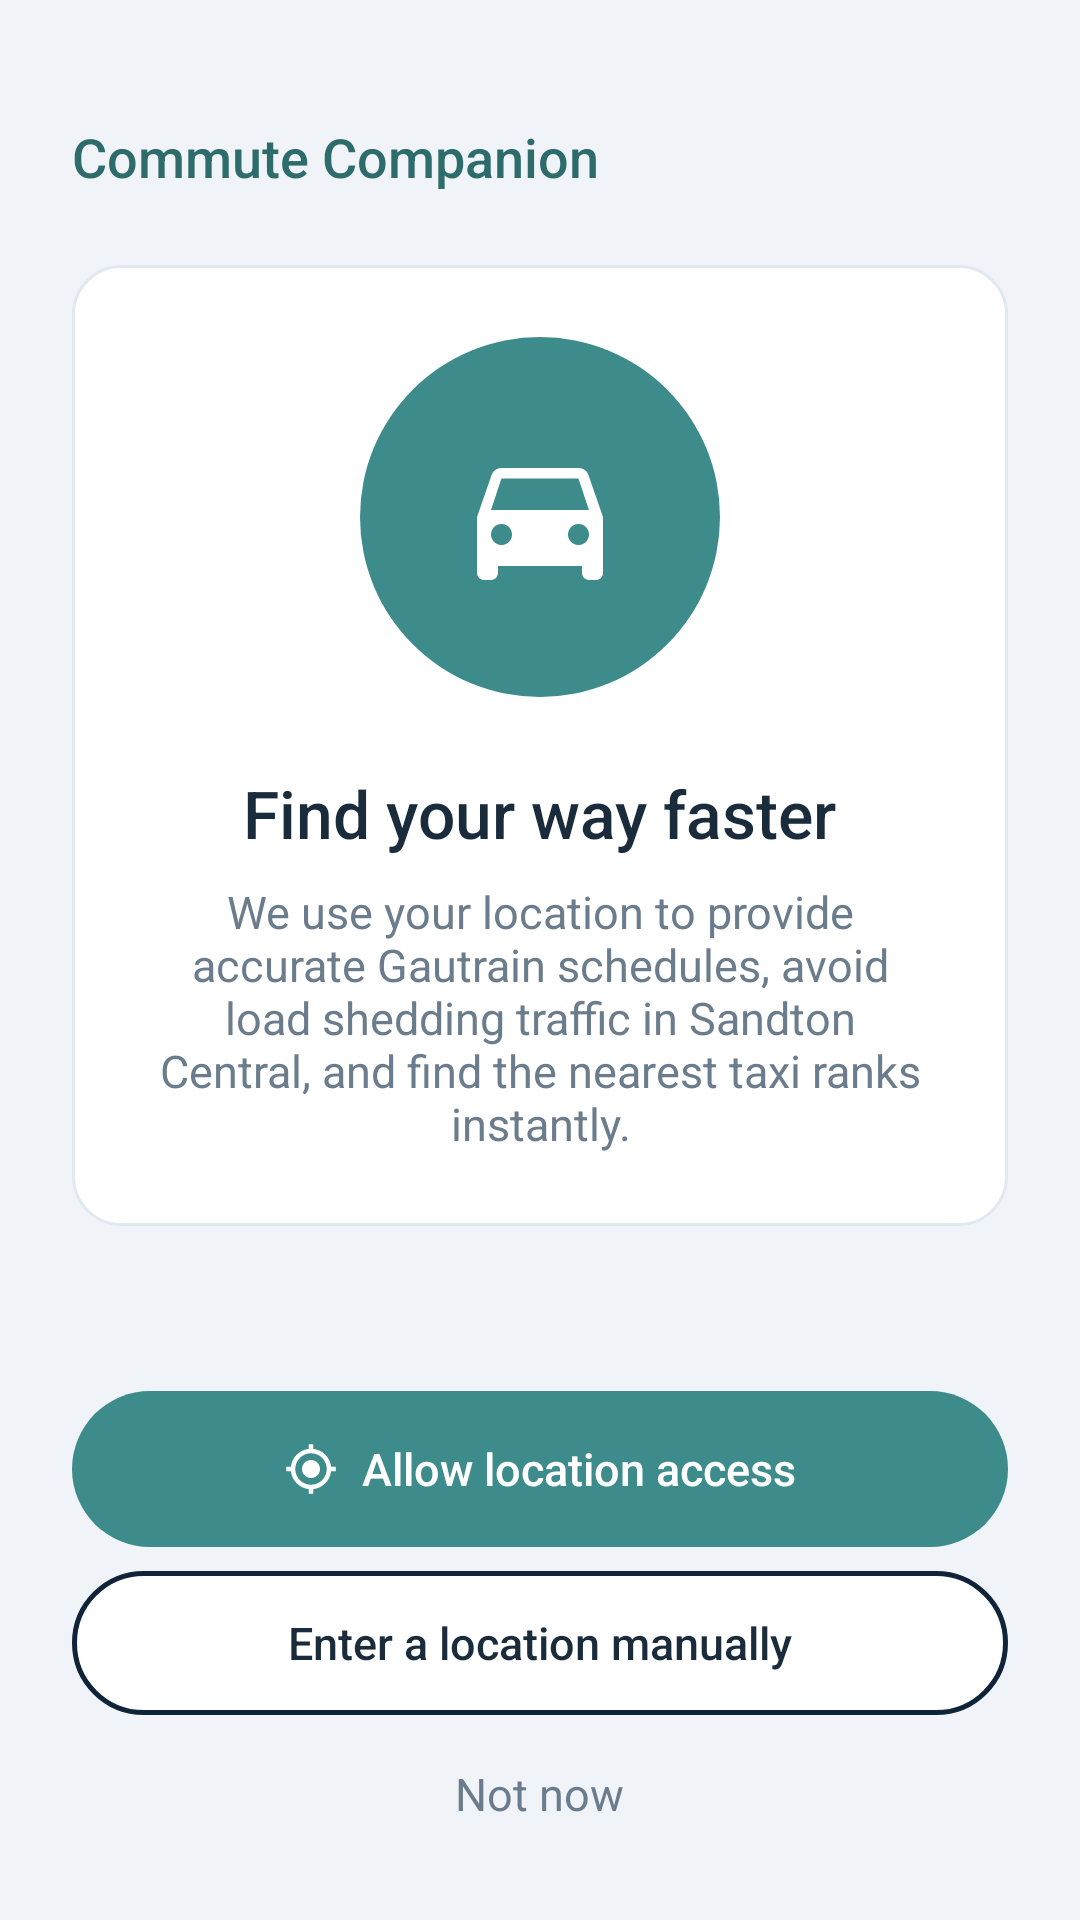

Named icons in this screenshot (1080*1920) and their bounding boxes, bbox(x1, y1, x2, y2):
directions car: bbox(477, 468, 603, 580)
